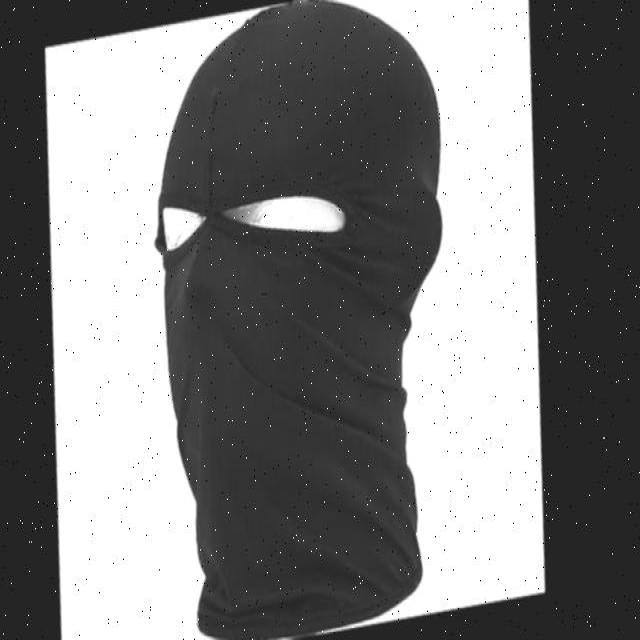6_pasamontana: (152, 0, 443, 640)
